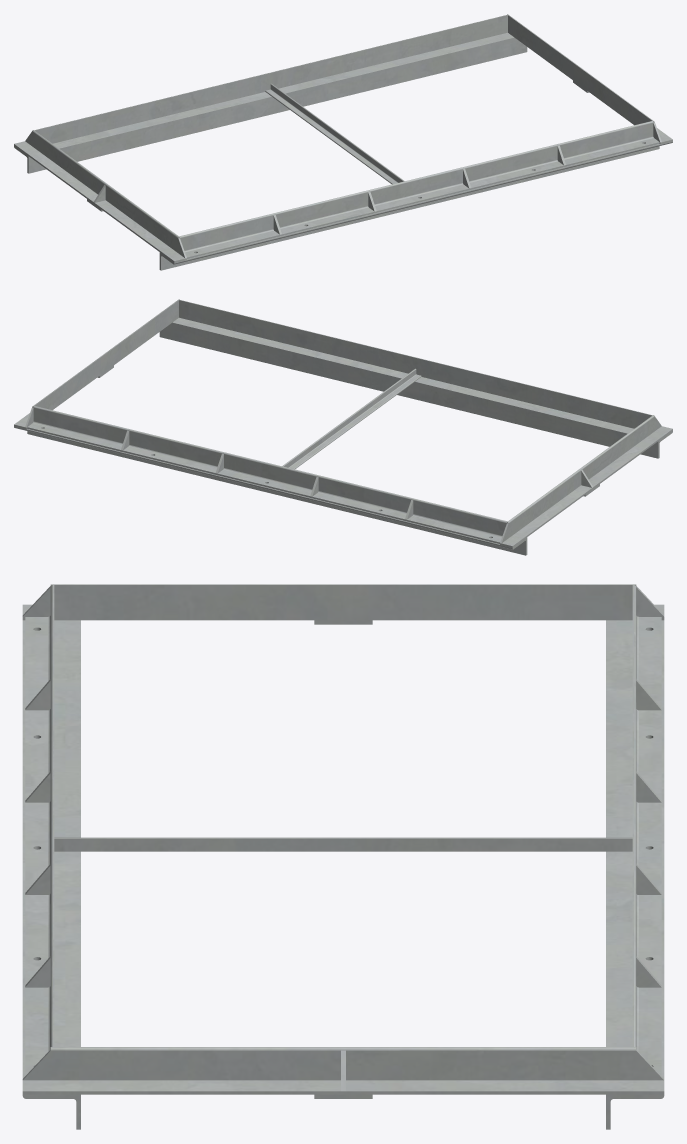
Rendered from ms-frame.glb.
3 views of the same model, one above another, from view 1: azimuth 30°, elevation 25°; view 2: azimuth 150°, elevation 25°; view 3: azimuth 270°, elevation 25° (orthographic). The views are drawn at different scales.
Parts seen in each view (by area): view 1: Cut-Extrude2[3]_high; view 2: Cut-Extrude2[3]_high; view 3: Cut-Extrude2[3]_high.
Part boxes in pixels (x1,y1,x2,y2): Cut-Extrude2[3]_high: (14,14,672,270); Cut-Extrude2[3]_high: (14,299,672,555); Cut-Extrude2[3]_high: (22,584,664,1129).
Size of the model in its own units: 0.9353 by 0.0631 by 0.521.
1 material, 1 textured.
